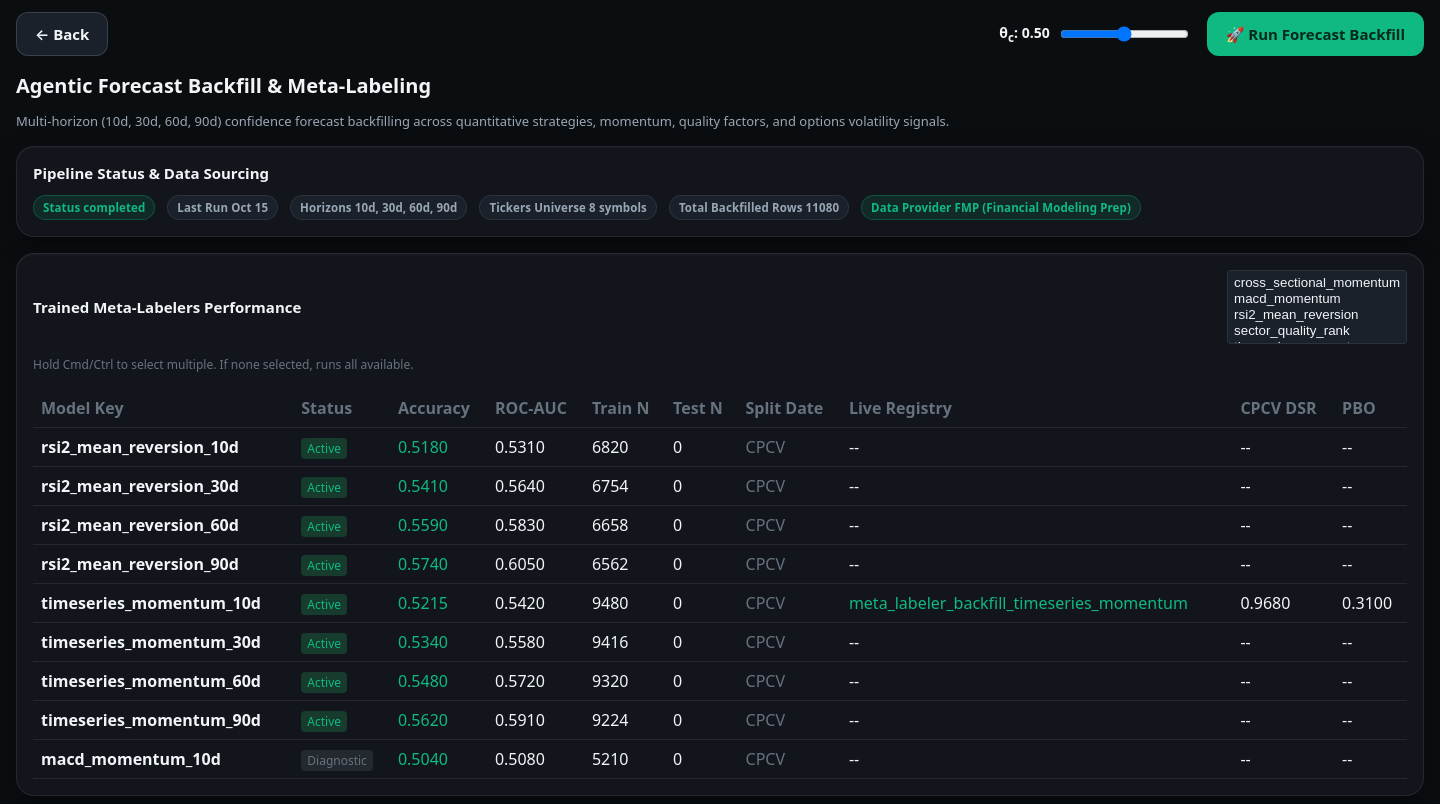
it: ForecastBackfillScreen (real mock API) › a 409 conflict on start shows an honest 'already in progress' notice and tracks the existing job
Expected: the text "timeseries_momentum_10d" is shown, [33, 584, 293, 623]
Click the button "🚀 Run Forecast Backfill" at [1315, 34], box [1207, 12, 1424, 56]
Wait 2500 ms
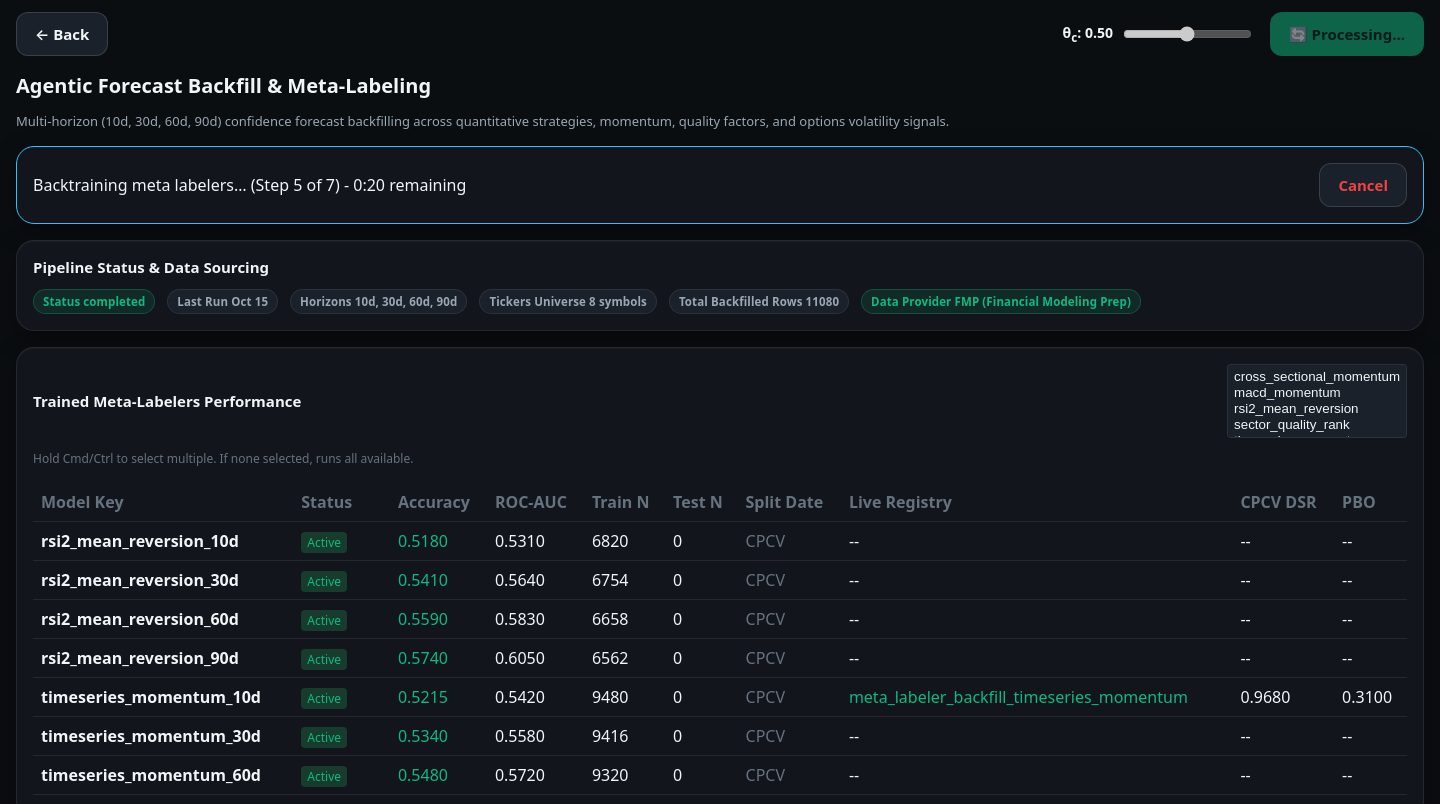
Result: the text "Backtraining meta labelers… (Step 5 of 7) - 0:20 remaining" is shown at [33, 174, 466, 196]
